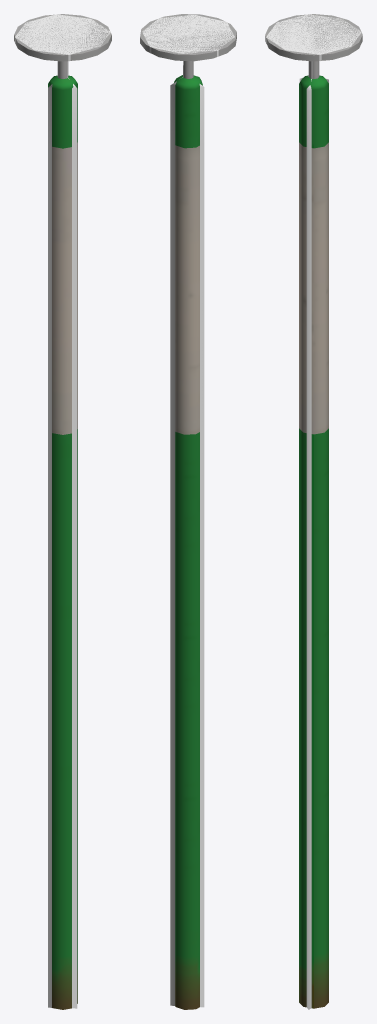
File: objects_un_t03gym_light01.gltf
3 renders of one model, left to right at view 1: azimuth 90°, elevation 25°; view 2: azimuth 210°, elevation 25°; view 3: azimuth 270°, elevation 25°, orthographic.
Visible parts, largest first — view 1: um_objects_un_t03gym_light01_model_lod0Shape:objects_un_t03g (×2); view 2: um_objects_un_t03gym_light01_model_lod0Shape:objects_un_t03g (×2); view 3: um_objects_un_t03gym_light01_model_lod0Shape:objects_un_t03g (×2).
Boxes of the visible parts, box(x1,y1,x2,y2) form: um_objects_un_t03gym_light01_model_lod0Shape:objects_un_t03g (×2): box(14, 14, 111, 1009); um_objects_un_t03gym_light01_model_lod0Shape:objects_un_t03g (×2): box(140, 14, 236, 1009); um_objects_un_t03gym_light01_model_lod0Shape:objects_un_t03g (×2): box(265, 14, 362, 1009).
Size of what is drawn, in the model's own units: 0.8091 by 8.85 by 0.8091.
Materials: 2 (1 with a texture image).
